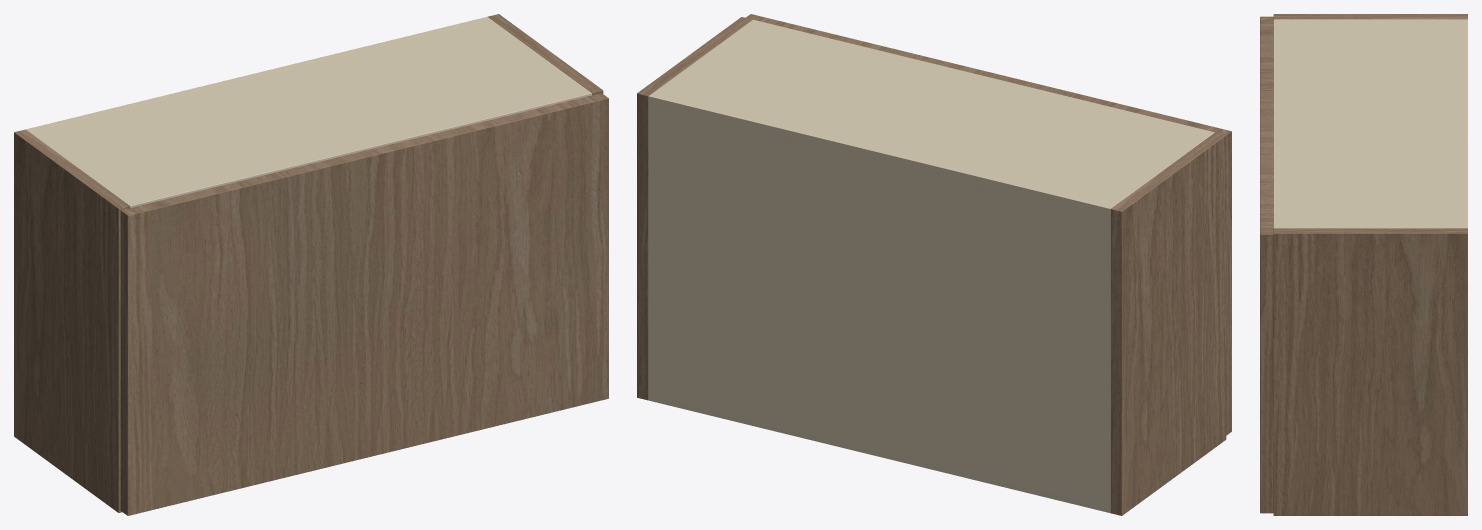
File: oppein-ply-mnw-wsl3018.glb
3 renders of one model, left to right at view 1: azimuth 30°, elevation 25°; view 2: azimuth 150°, elevation 25°; view 3: azimuth 270°, elevation 25°, orthographic. The views are drawn at different scales.
Visible parts, largest first — view 1: Door, Cabinet top, Cabinet side, Cabinet back, Cabinet side.001; view 2: Cabinet back, Cabinet top, Cabinet side, Cabinet side.001, Door, Cabinet bottom; view 3: Cabinet side.001, Cabinet top, Door, Cabinet back, Cabinet side.
Part boxes in pixels (x1,y1,x2,y2): Door: (120, 93, 608, 515); Cabinet top: (26, 17, 591, 207); Cabinet side: (14, 129, 129, 512); Cabinet back: (25, 16, 490, 132); Cabinet side.001: (488, 14, 603, 95); Cabinet back: (648, 93, 1114, 512); Cabinet top: (649, 19, 1214, 218); Cabinet side: (1110, 132, 1226, 515); Cabinet side.001: (637, 17, 752, 400); Door: (746, 14, 1231, 435); Cabinet bottom: (648, 390, 1110, 512); Cabinet side.001: (1273, 228, 1467, 515); Cabinet top: (1273, 19, 1467, 228); Door: (1260, 16, 1273, 513); Cabinet back: (1460, 19, 1467, 228); Cabinet side: (1273, 14, 1467, 19).
Size of the model in its own units: 0.762 by 0.4572 by 0.3048.
2 materials, 1 textured.
